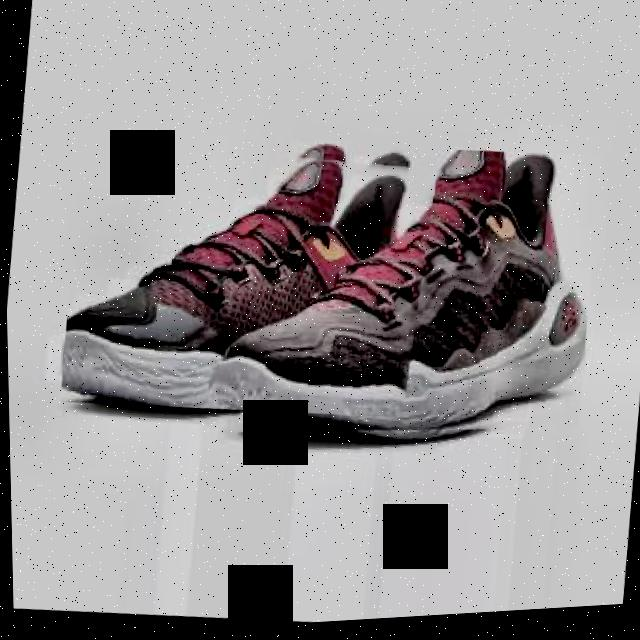shoe: (216, 127, 604, 472), (53, 121, 442, 439)
